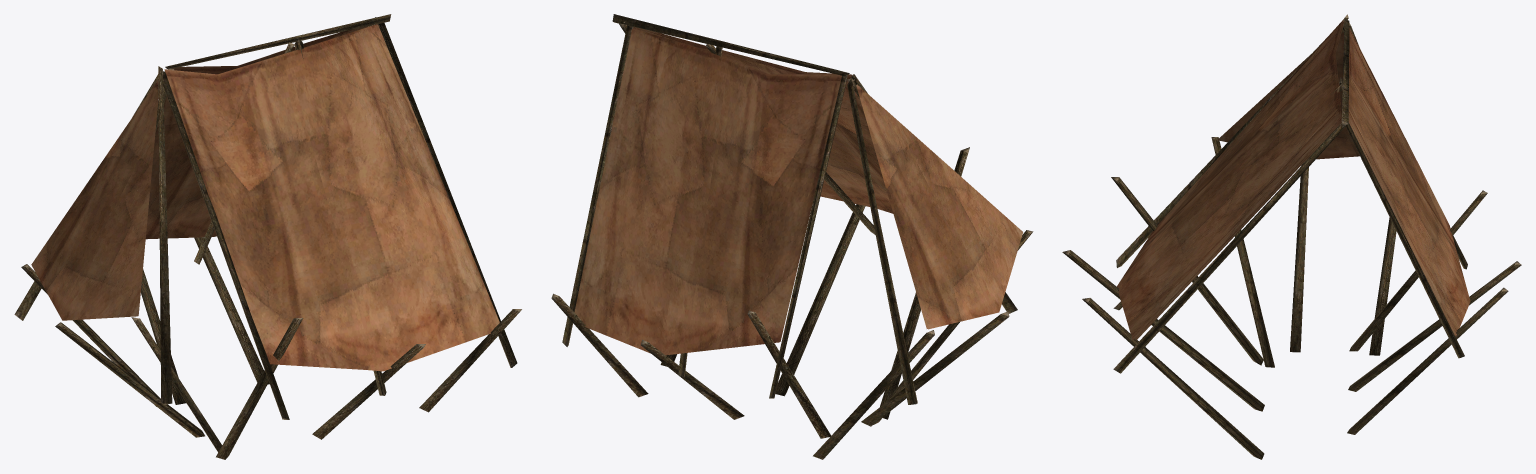
The model's file is poi_all_lair_wooden_l2.fbx.
3 renders of one model, left to right at view 1: azimuth 30°, elevation 25°; view 2: azimuth 150°, elevation 25°; view 3: azimuth 270°, elevation 25°, orthographic. The views are drawn at different scales.
Visible parts, largest first — view 1: mesh_node; view 2: mesh_node; view 3: mesh_node.
Part boxes in pixels (<box>): mesh_node: <box>14,14,521,459</box>; mesh_node: <box>551,14,1033,459</box>; mesh_node: <box>1062,14,1521,459</box>.
Size of the model in its own units: 8.12 by 7.85 by 9.53.
